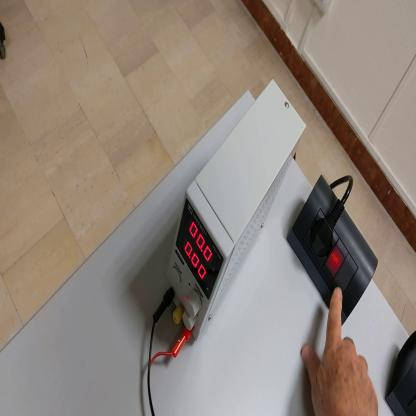hand: (304, 289, 379, 415)
power supply: (168, 73, 307, 346)
socket: (286, 175, 379, 325), (386, 332, 416, 416)
